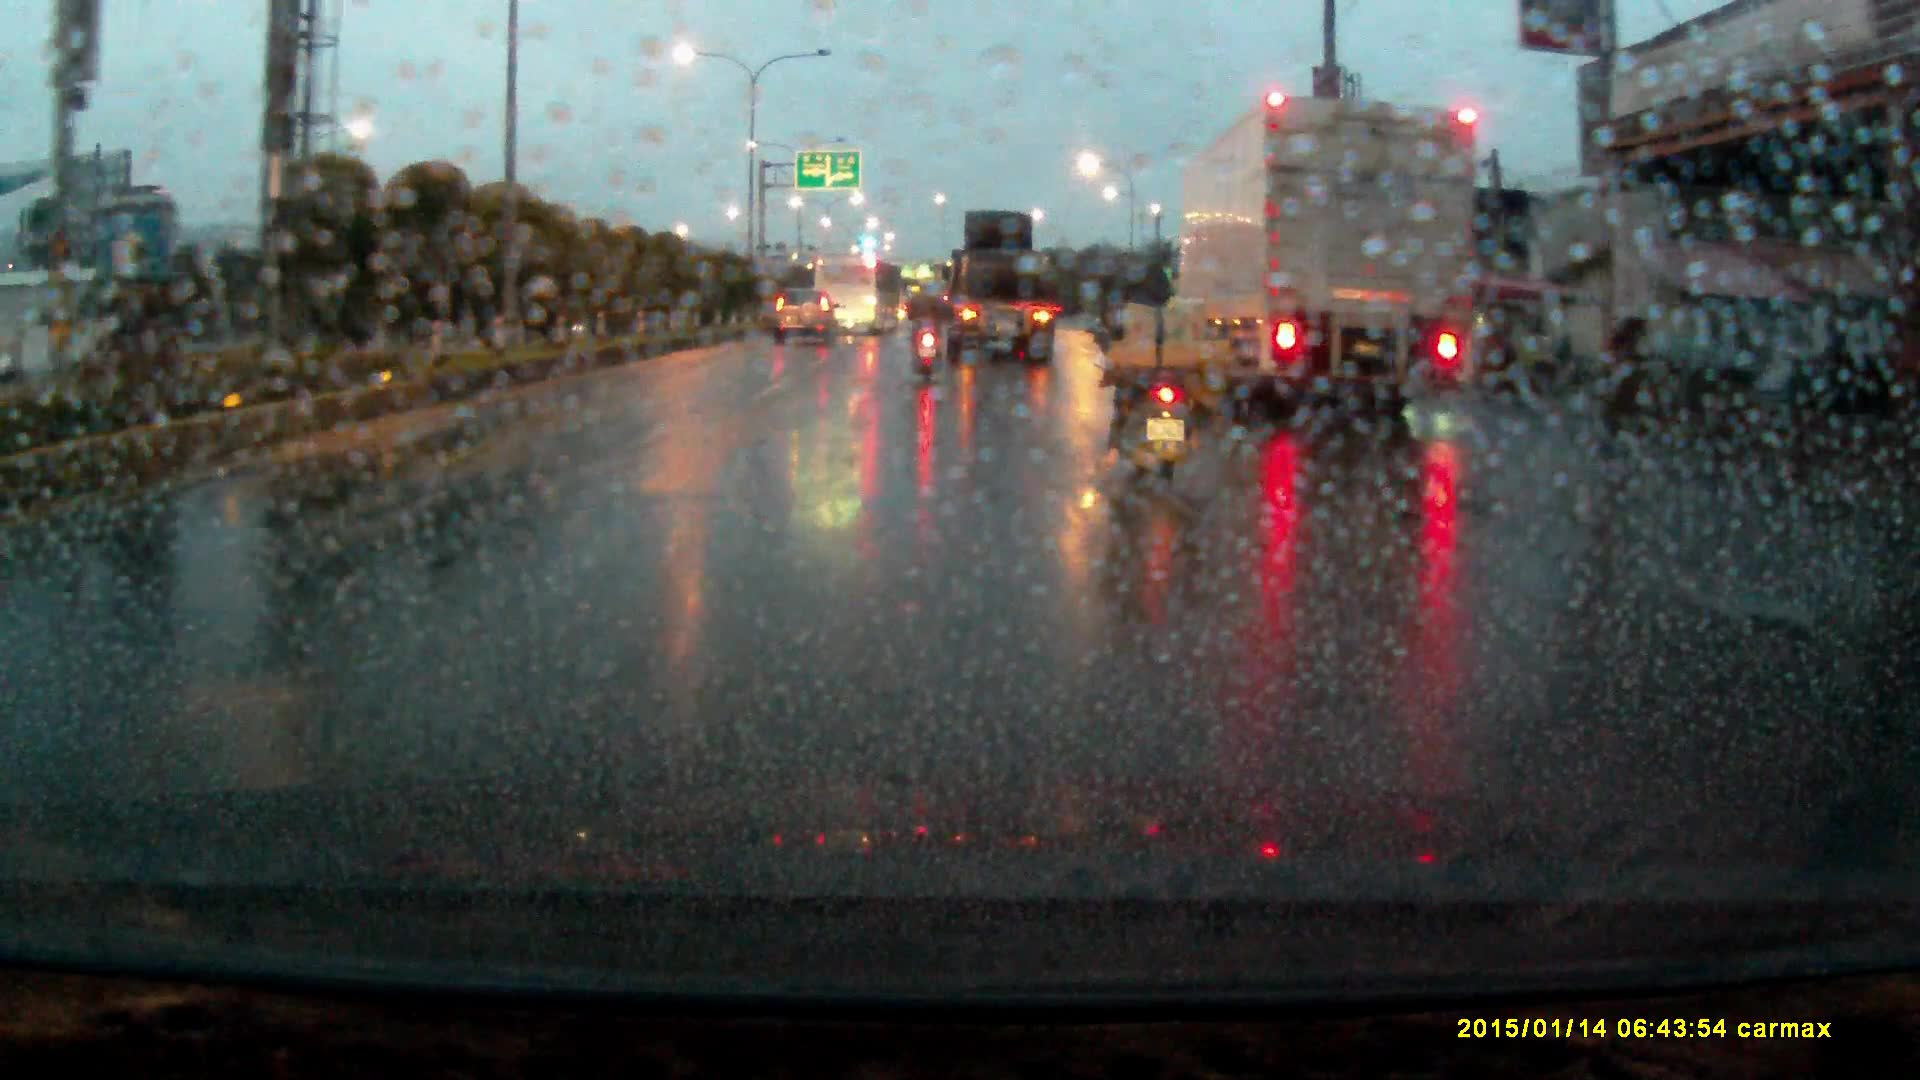rider: (1097, 253, 1220, 507), (908, 277, 949, 384)
vehicle: (1165, 88, 1486, 424), (938, 208, 1058, 365), (812, 255, 881, 336), (770, 292, 841, 354)
